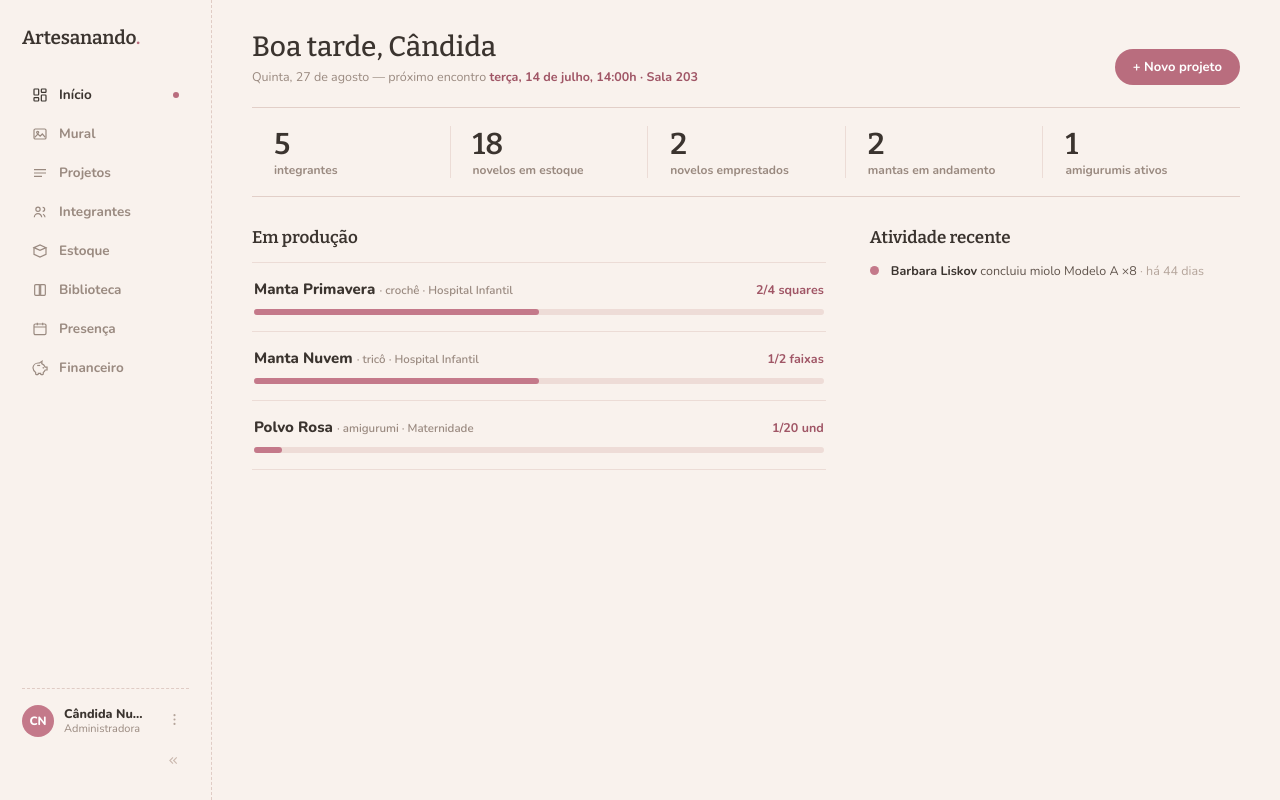
Test case: navegação › nome vazio no projeto mostra o erro sob o campo
The width and height of the screenshot is (1280, 800).
Click the button "+ Novo projeto" at (1177,67), box 1115,49 -> 1240,85
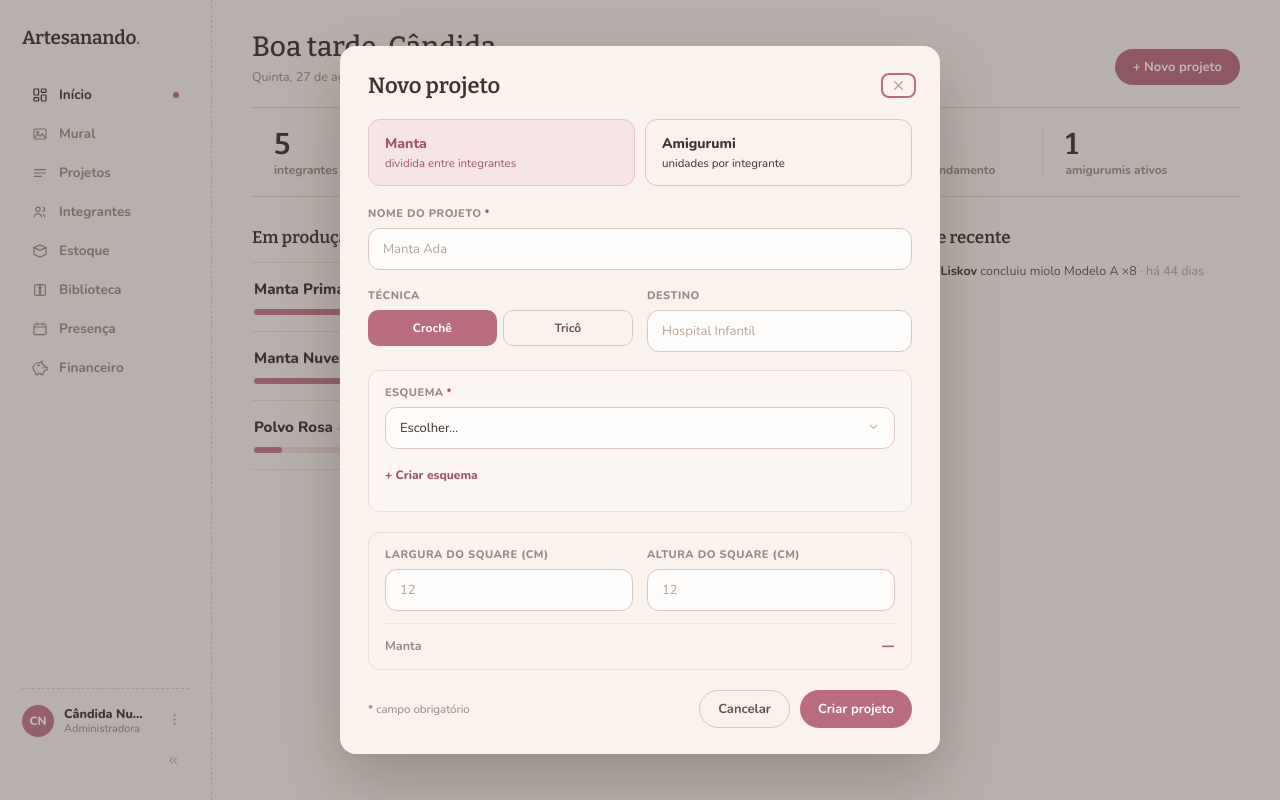
Click the button "Criar projeto" at (856,709), box 800,690 -> 912,728
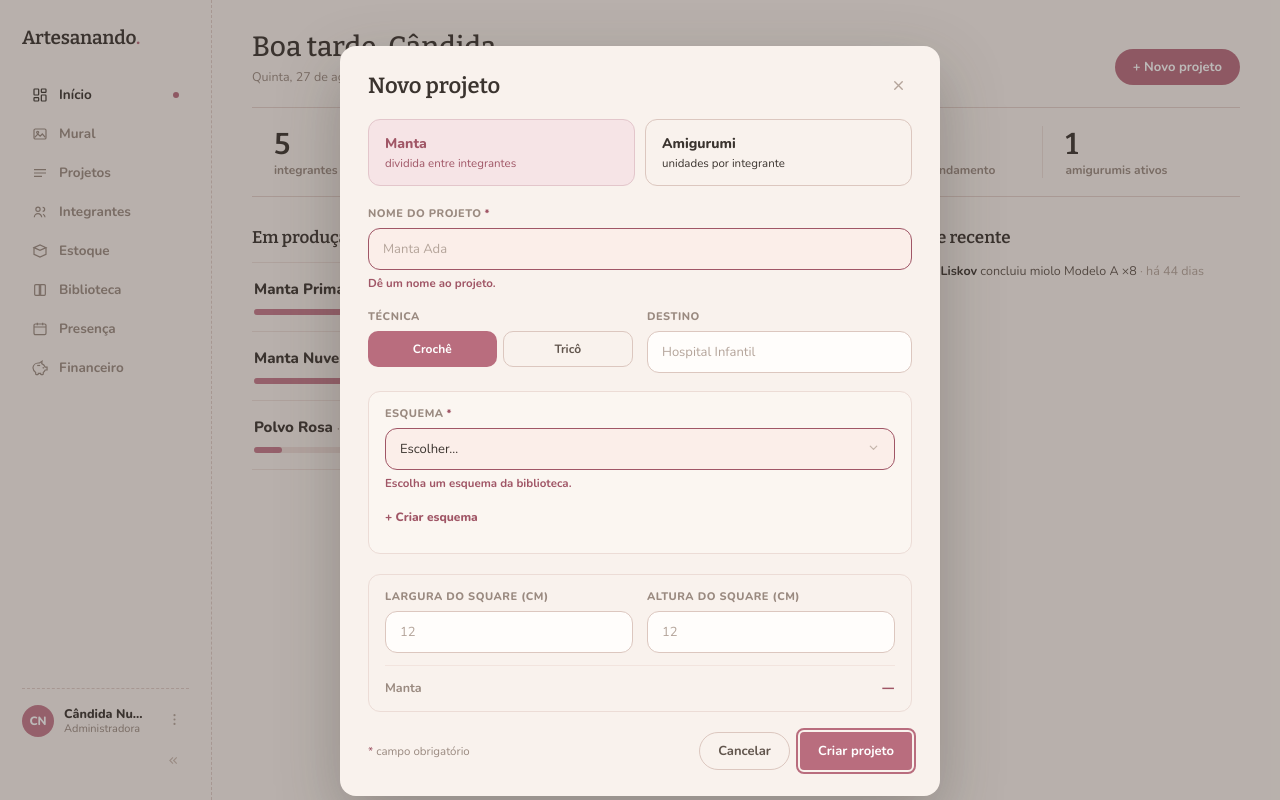
Expected: the text "Dê um nome ao projeto." is shown, 368,275 -> 496,291
